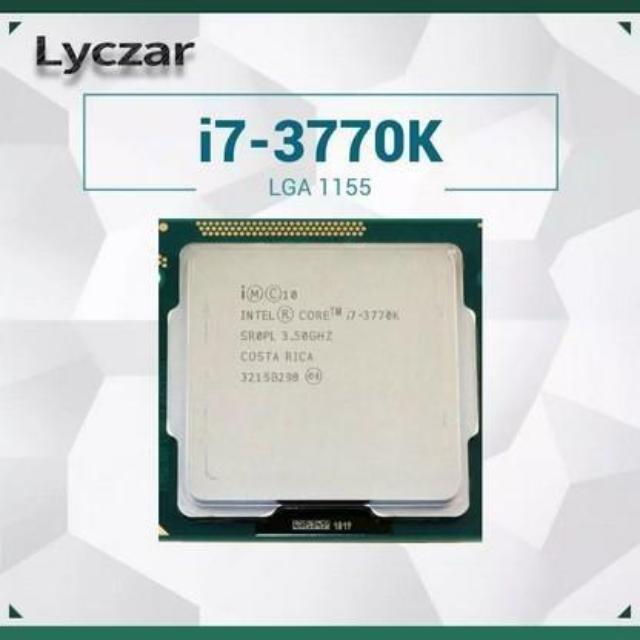CPU: (155, 218, 482, 542)
